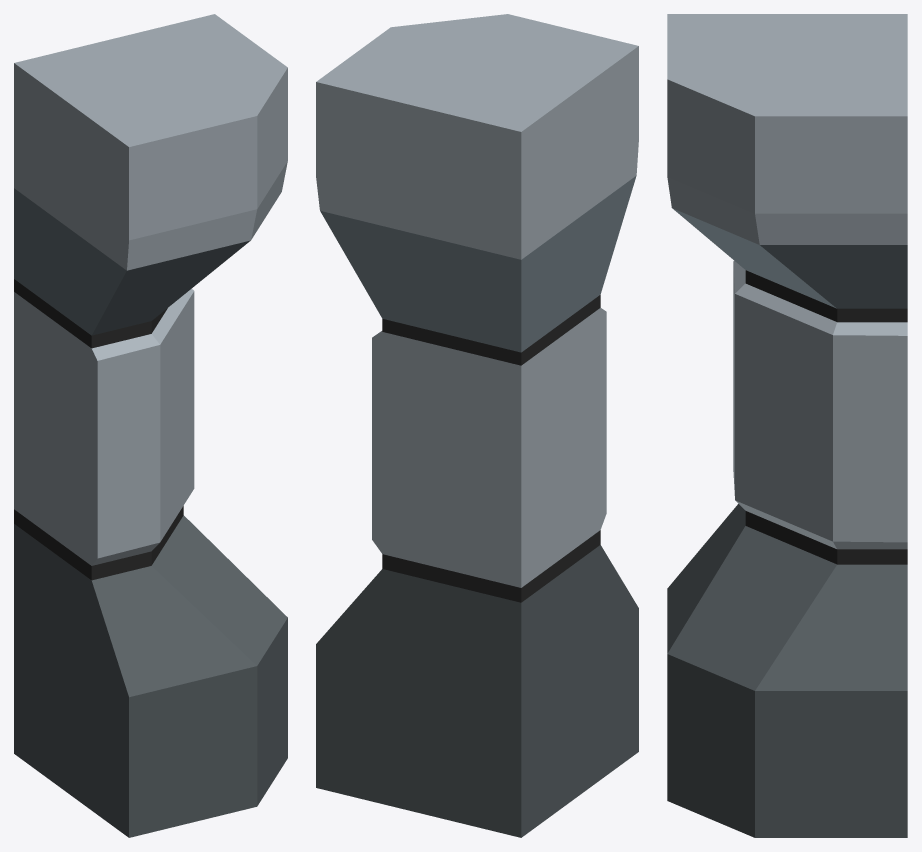
Rendered from space_SM_Bld_Wall_Corner_Pillar_Wide_03.gltf.
3 renders of one model, left to right at view 1: azimuth 30°, elevation 25°; view 2: azimuth 150°, elevation 25°; view 3: azimuth 270°, elevation 25°, orthographic. The views are drawn at different scales.
Parts seen in each view (by area): view 1: SM_Bld_Wall_Corner_Pillar_Wide_03; view 2: SM_Bld_Wall_Corner_Pillar_Wide_03; view 3: SM_Bld_Wall_Corner_Pillar_Wide_03.
Part boxes in pixels (box(x1,y1,x2,y2)): SM_Bld_Wall_Corner_Pillar_Wide_03: box(14, 14, 287, 837); SM_Bld_Wall_Corner_Pillar_Wide_03: box(316, 14, 638, 837); SM_Bld_Wall_Corner_Pillar_Wide_03: box(667, 14, 907, 837).
Bounding box in the file's own units: 1.55 × 5.09 × 1.54.
1 material, 1 textured.
